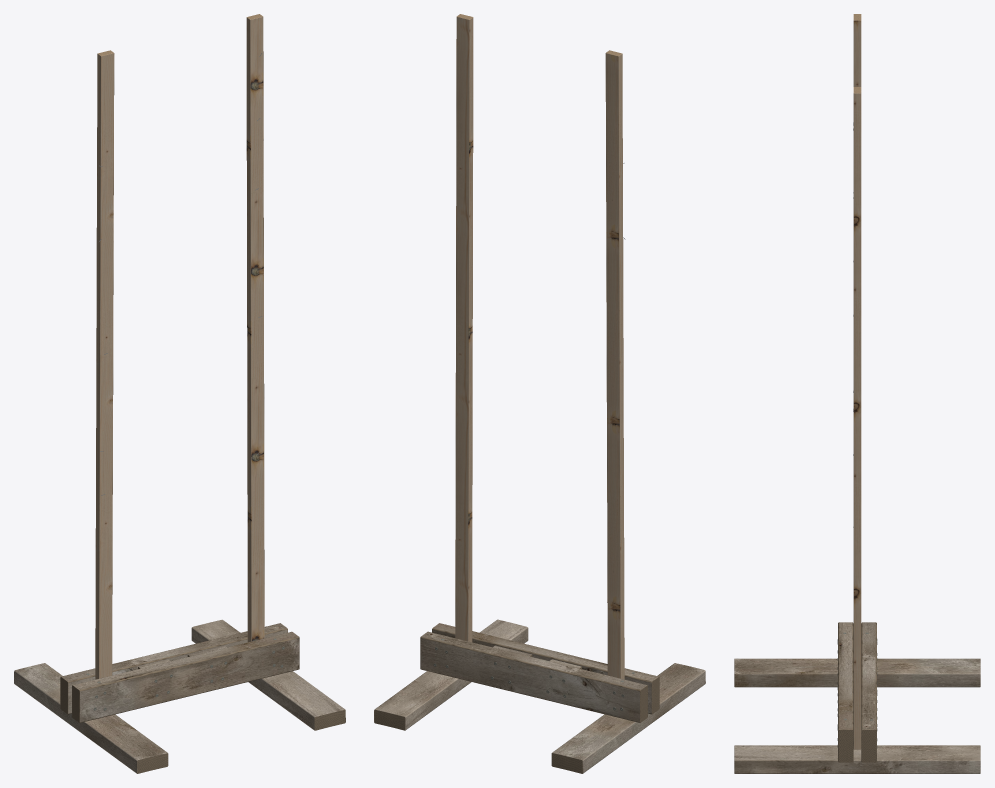
The model's file is target_stand.glb.
3 renders of one model, left to right at view 1: azimuth 30°, elevation 25°; view 2: azimuth 150°, elevation 25°; view 3: azimuth 270°, elevation 25°, orthographic.
Visible parts, largest first — view 1: target_stand; view 2: target_stand; view 3: target_stand.
Part boxes in pixels (bbox=[...]): target_stand: bbox=[14, 14, 345, 773]; target_stand: bbox=[374, 14, 705, 773]; target_stand: bbox=[734, 14, 980, 773].
Bounding box in the file's own units: 0.62 × 1.8 × 0.6.
6 materials, 6 textured.
